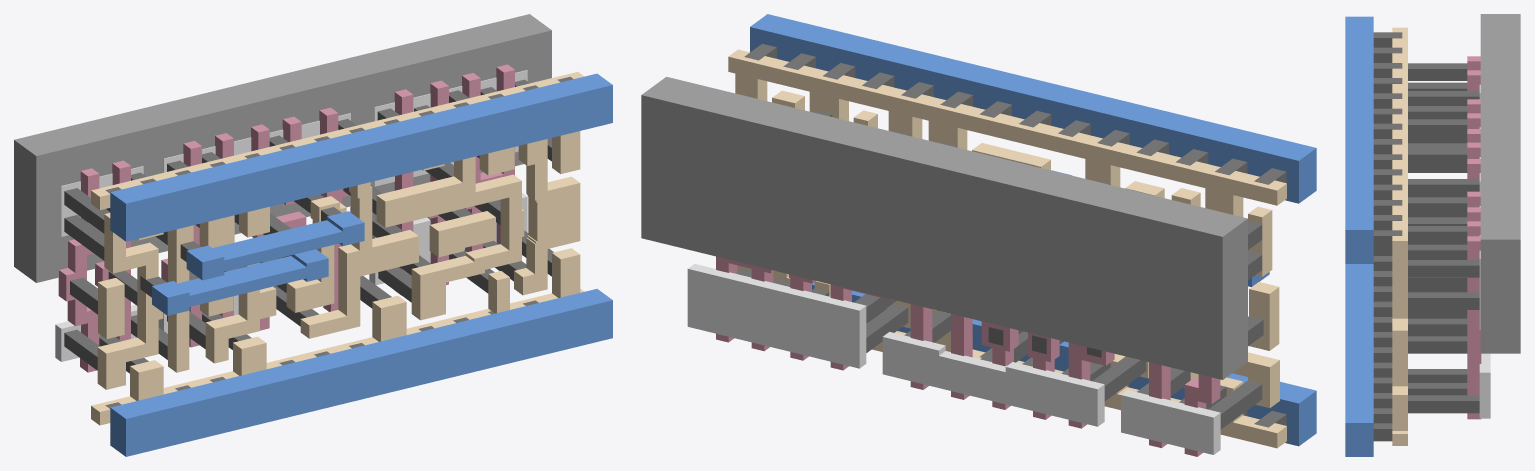
The model's file is sky130_fd_sc_hd__dlrtp_2.gds.gltf.
3 views of the same model, side by side, from view 1: azimuth 30°, elevation 25°; view 2: azimuth 150°, elevation 25°; view 3: azimuth 270°, elevation 25° (orthographic). The views are drawn at different scales.
Parts seen in each view (by area): view 1: sky130_fd_sc_hd__dlrtp_2_met1, sky130_fd_sc_hd__dlrtp_2_li1, sky130_fd_sc_hd__dlrtp_2_nwell, sky130_fd_sc_hd__dlrtp_2_licon, sky130_fd_sc_hd__dlrtp_2_poly, sky130_fd_sc_hd__dlrtp_2_diff, sky130_fd_sc_hd__dlrtp_2_mcon; view 2: sky130_fd_sc_hd__dlrtp_2_nwell, sky130_fd_sc_hd__dlrtp_2_li1, sky130_fd_sc_hd__dlrtp_2_diff, sky130_fd_sc_hd__dlrtp_2_met1, sky130_fd_sc_hd__dlrtp_2_poly, sky130_fd_sc_hd__dlrtp_2_licon, sky130_fd_sc_hd__dlrtp_2_mcon; view 3: sky130_fd_sc_hd__dlrtp_2_licon, sky130_fd_sc_hd__dlrtp_2_nwell, sky130_fd_sc_hd__dlrtp_2_met1, sky130_fd_sc_hd__dlrtp_2_mcon, sky130_fd_sc_hd__dlrtp_2_li1, sky130_fd_sc_hd__dlrtp_2_poly, sky130_fd_sc_hd__dlrtp_2_diff.
Part boxes in pixels (x1,y1,x2,y2): sky130_fd_sc_hd__dlrtp_2_met1: (110, 73, 612, 456); sky130_fd_sc_hd__dlrtp_2_li1: (91, 71, 584, 425); sky130_fd_sc_hd__dlrtp_2_nwell: (14, 14, 551, 282); sky130_fd_sc_hd__dlrtp_2_licon: (64, 79, 553, 373); sky130_fd_sc_hd__dlrtp_2_poly: (58, 64, 514, 372); sky130_fd_sc_hd__dlrtp_2_diff: (55, 70, 527, 361); sky130_fd_sc_hd__dlrtp_2_mcon: (105, 76, 573, 408); sky130_fd_sc_hd__dlrtp_2_nwell: (641, 76, 1247, 379); sky130_fd_sc_hd__dlrtp_2_li1: (728, 49, 1286, 448); sky130_fd_sc_hd__dlrtp_2_diff: (687, 264, 1220, 454); sky130_fd_sc_hd__dlrtp_2_met1: (750, 14, 1316, 446); sky130_fd_sc_hd__dlrtp_2_poly: (716, 256, 1220, 456); sky130_fd_sc_hd__dlrtp_2_licon: (737, 110, 1263, 429); sky130_fd_sc_hd__dlrtp_2_mcon: (744, 43, 1286, 427); sky130_fd_sc_hd__dlrtp_2_licon: (1408, 63, 1479, 413); sky130_fd_sc_hd__dlrtp_2_nwell: (1480, 14, 1520, 353); sky130_fd_sc_hd__dlrtp_2_met1: (1345, 16, 1373, 456); sky130_fd_sc_hd__dlrtp_2_mcon: (1373, 32, 1402, 441); sky130_fd_sc_hd__dlrtp_2_li1: (1392, 27, 1407, 445); sky130_fd_sc_hd__dlrtp_2_poly: (1467, 56, 1481, 419); sky130_fd_sc_hd__dlrtp_2_diff: (1479, 84, 1490, 418).
Bounding box in the file's own units: 6.82 × 3.2 × 2.24.
